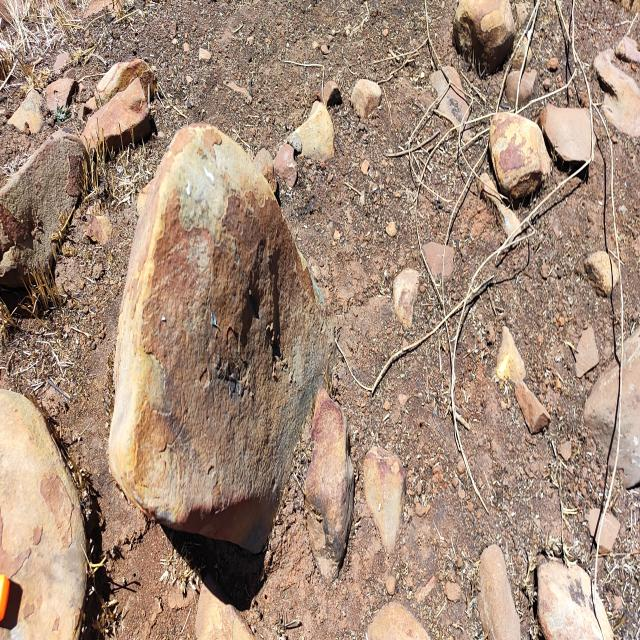rock: (108, 120, 334, 556)
